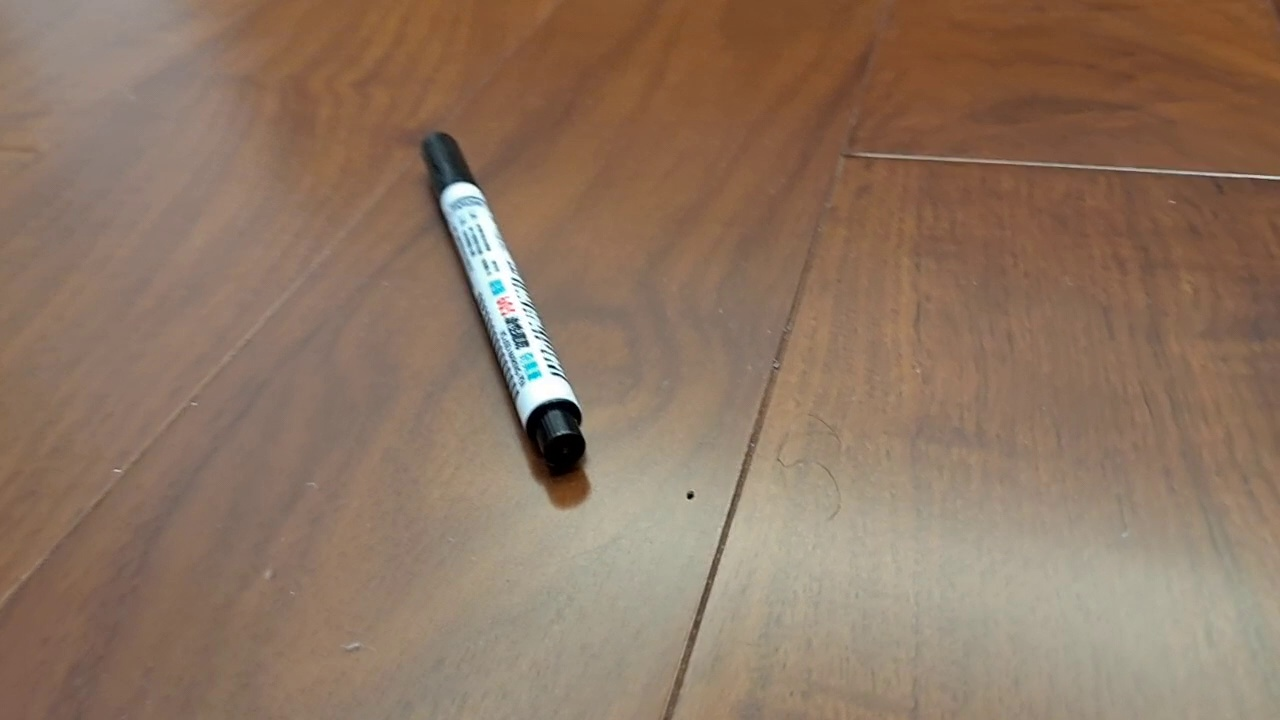pen: (418, 130, 586, 476)
